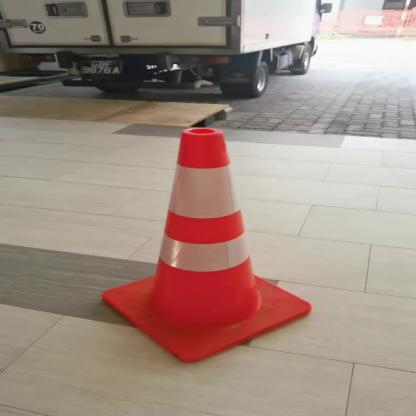cone: (72, 124, 304, 372)
